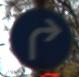turn: (7, 7, 72, 71)
